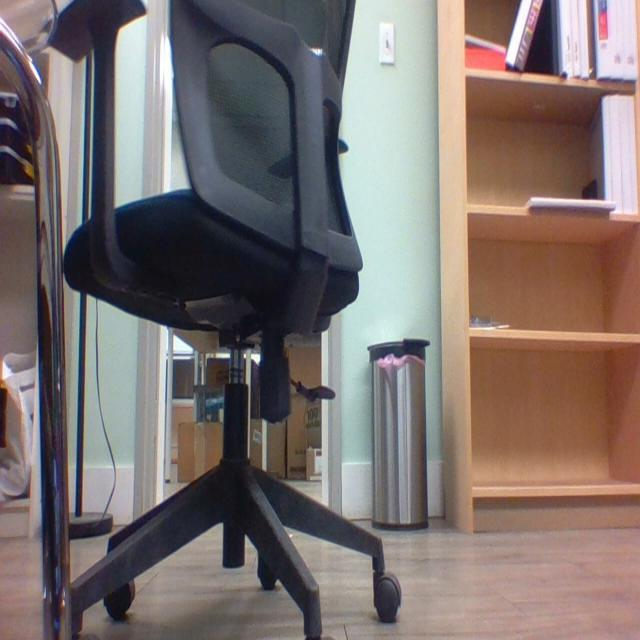chair: (43, 1, 404, 640)
